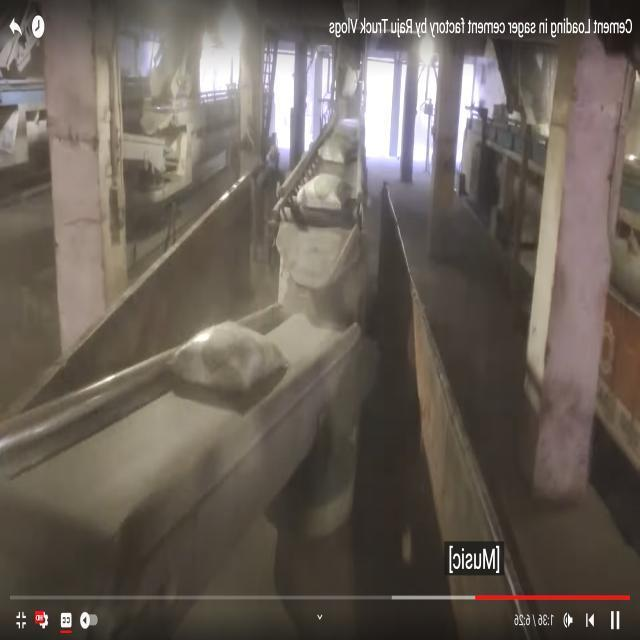gunny_bag: (171, 321, 287, 392), (296, 172, 352, 210), (318, 134, 357, 163)
